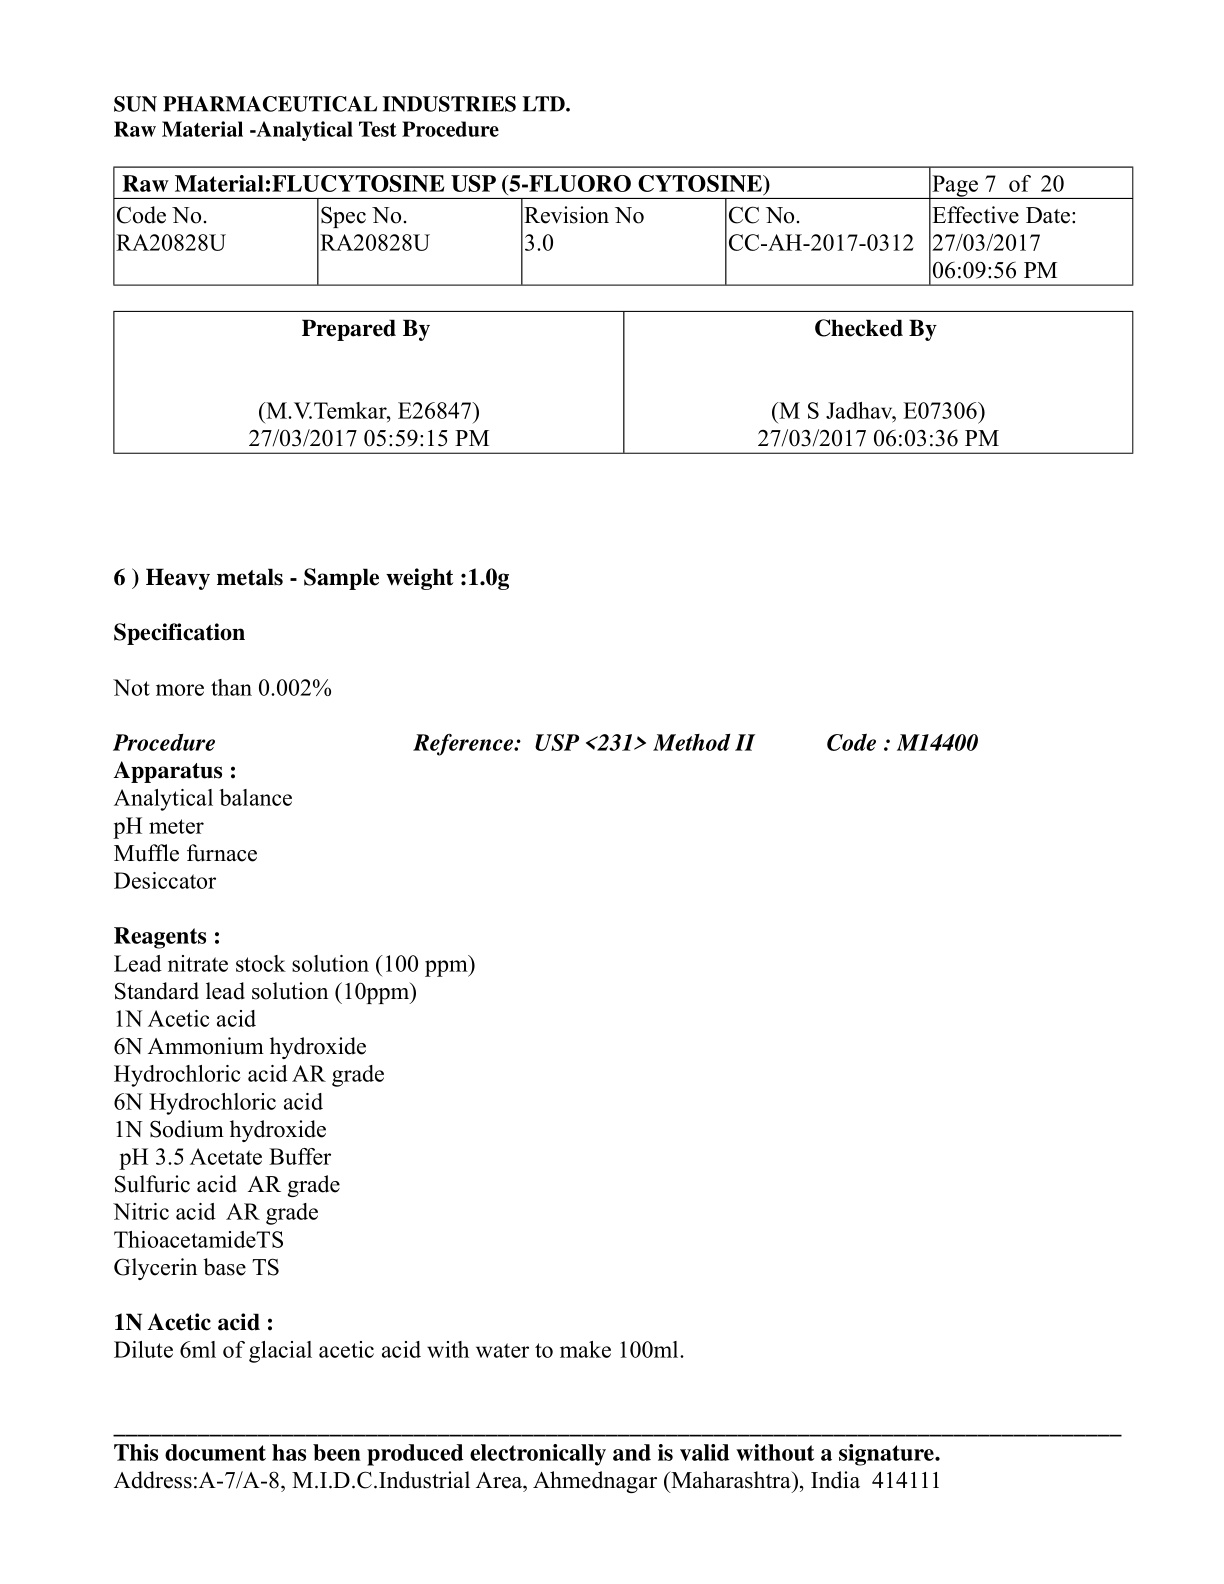full_lined: (112, 310, 1134, 454)
merged_cells: (112, 166, 1134, 285)
